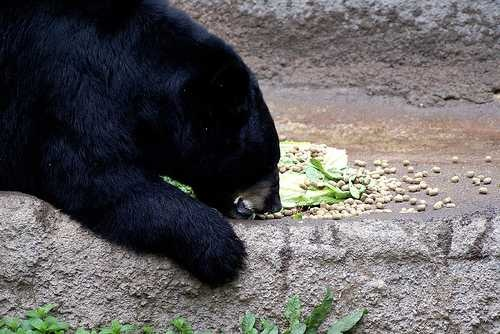bear: (174, 98, 302, 226)
